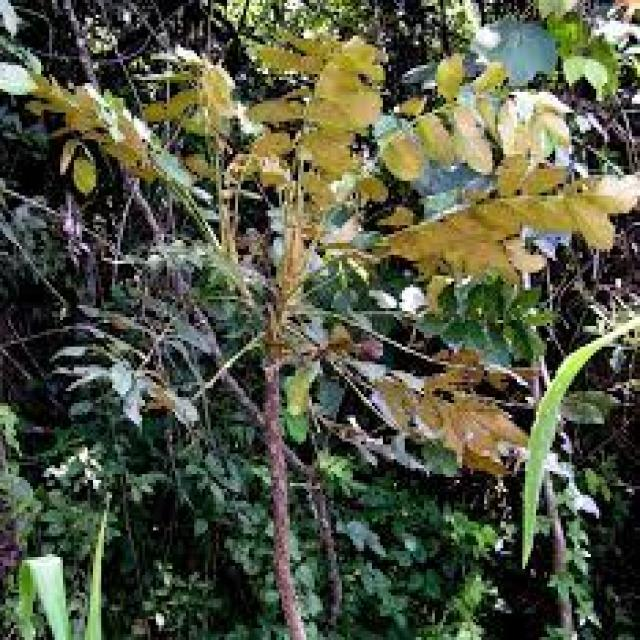Polyscias fulva: (16, 36, 632, 608)
